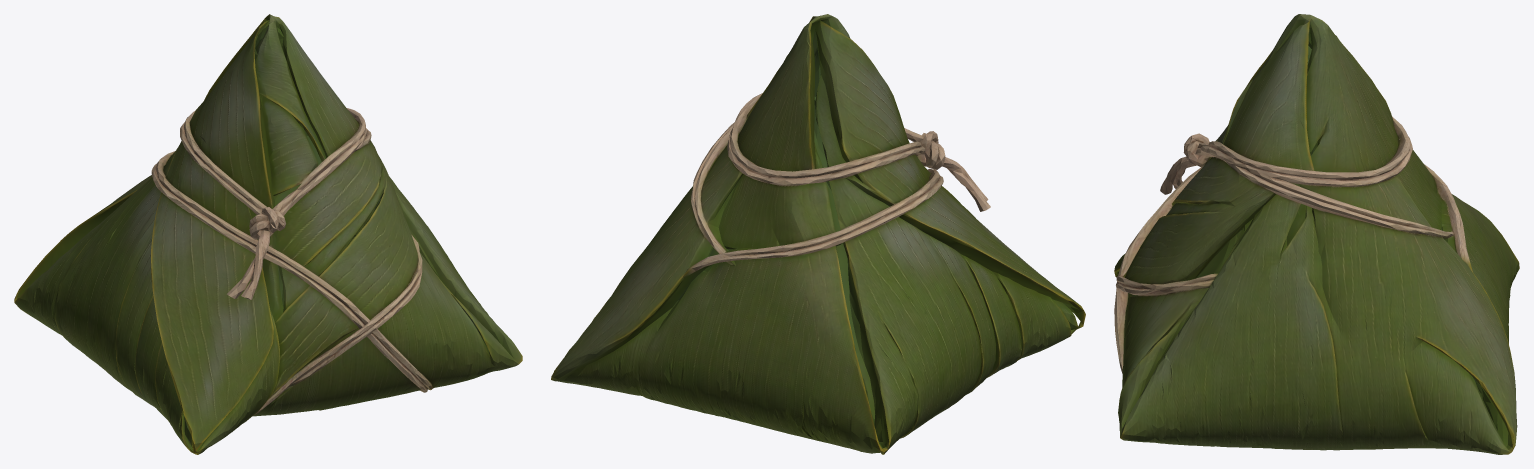
Rendered from lod_basic_pbr.fbx.
3 views of the same model, side by side, from view 1: azimuth 30°, elevation 25°; view 2: azimuth 150°, elevation 25°; view 3: azimuth 270°, elevation 25° (orthographic). The views are drawn at different scales.
Visible parts, largest first — view 1: model_LOD0; view 2: model_LOD0; view 3: model_LOD0.
Part boxes in pixels (bbox=[...]): model_LOD0: bbox=[14, 14, 522, 454]; model_LOD0: bbox=[551, 14, 1085, 454]; model_LOD0: bbox=[1114, 14, 1519, 454].
Size of what is drawn, in the model's own units: 189 by 190 by 183.
1 material, 1 textured.
